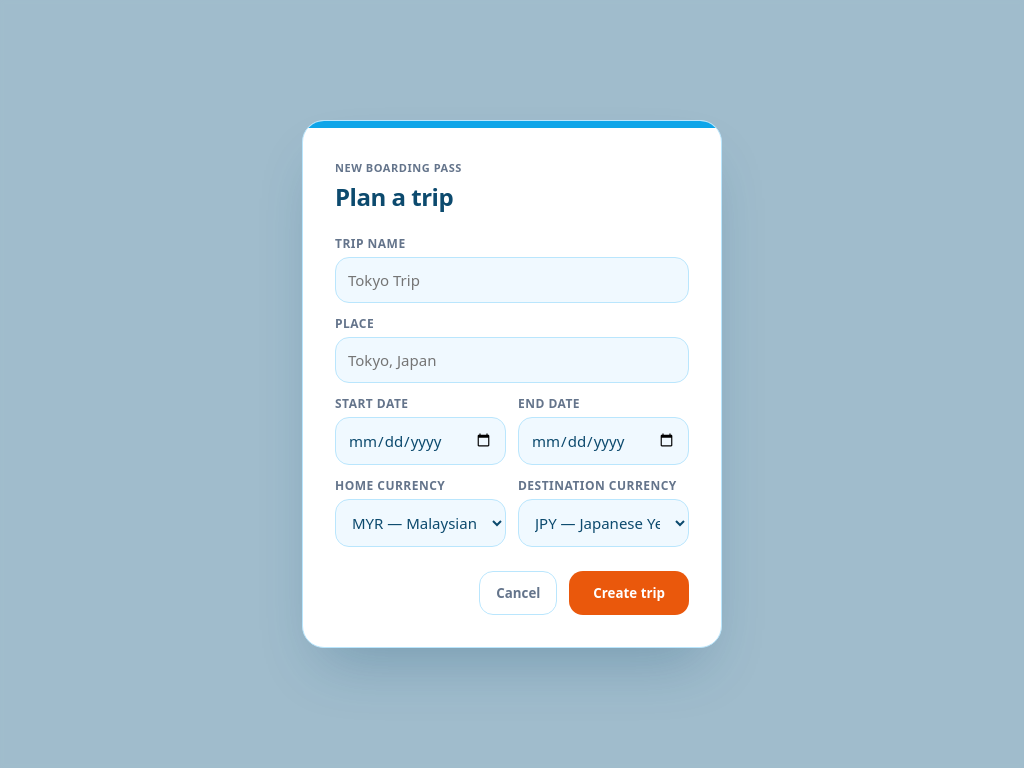
it: CreateTripModal › blocks submit when end is before start
This screenshot has width=1024, height=768.
Step 1. Type "Tokyo" into the field labelled "Trip name" → (512,280), box [335,256,689,302]
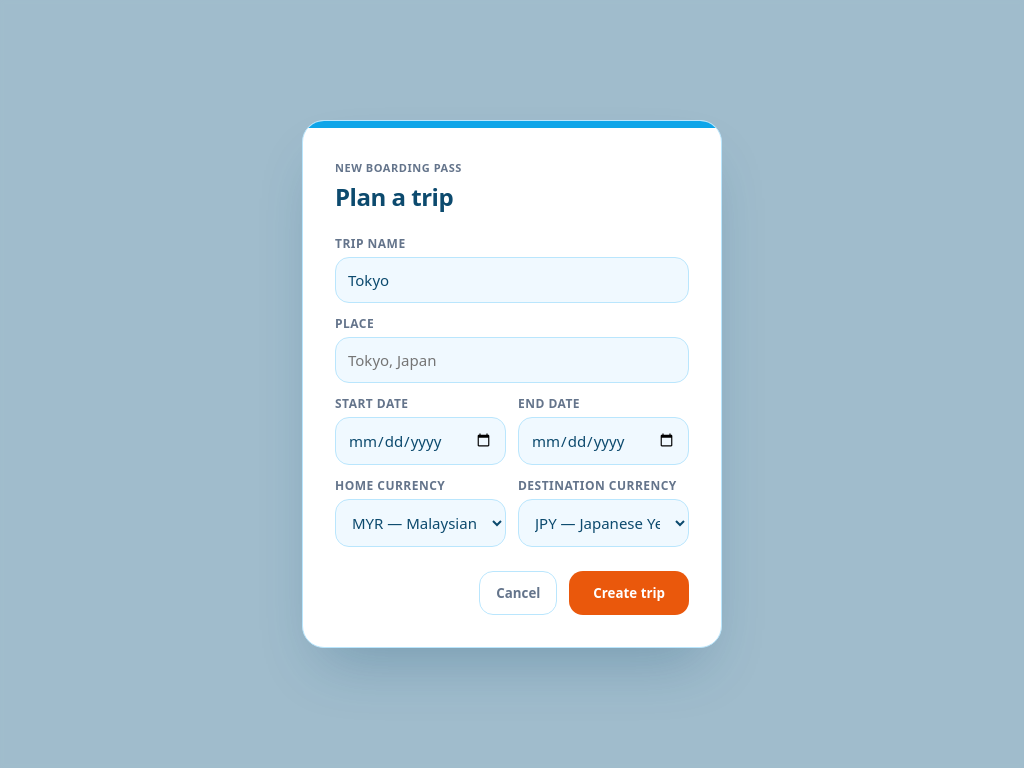
Step 2. Type "Tokyo" into the field labelled "Place" → (512,360), box [335,336,689,382]
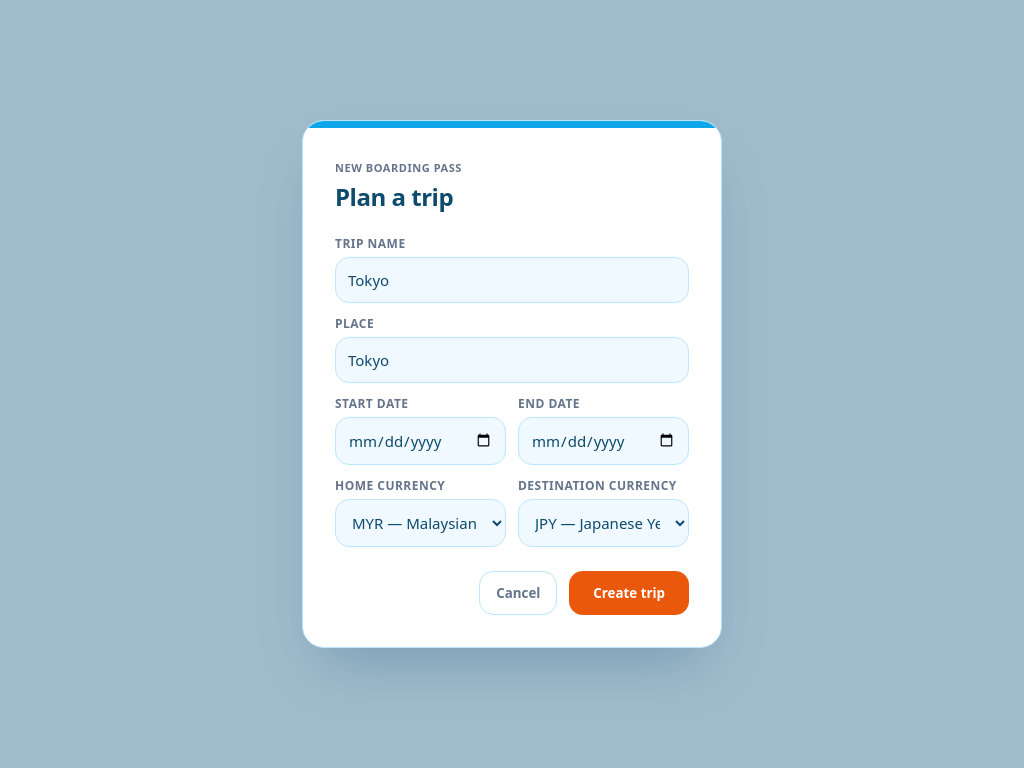
Step 3. Type "2026-07-19" into the date field labelled "Start date" → (420,440), box [335,416,506,464]
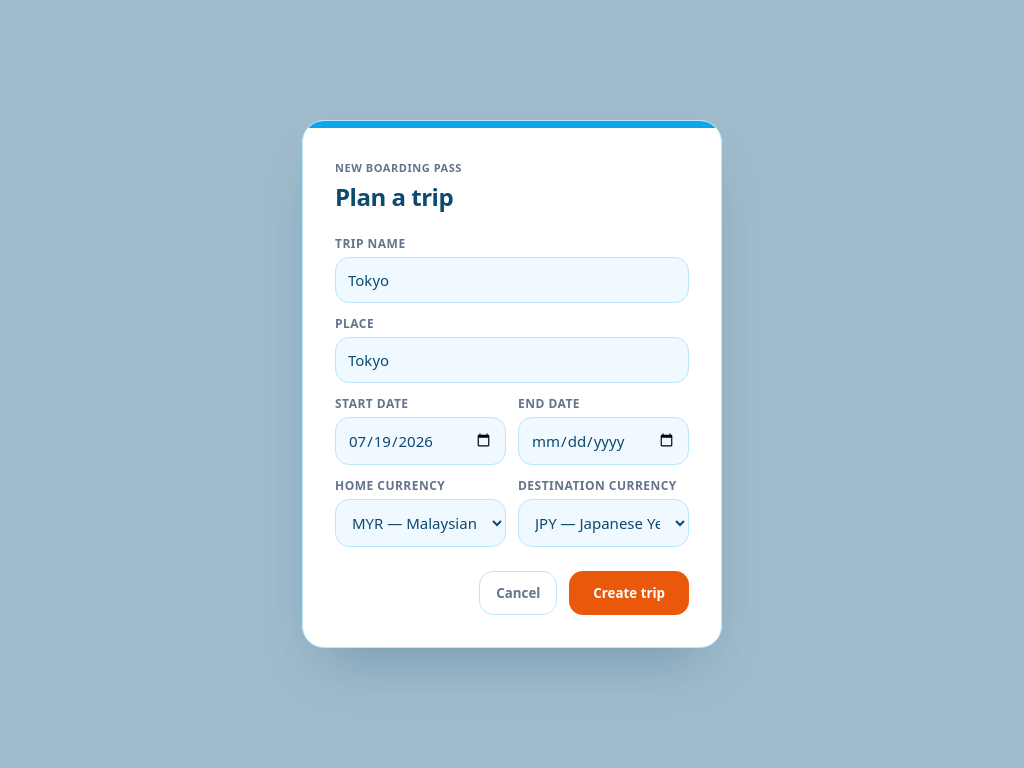
Step 4. Type "2026-07-12" into the date field labelled "End date" → (604,440), box [518,416,689,464]
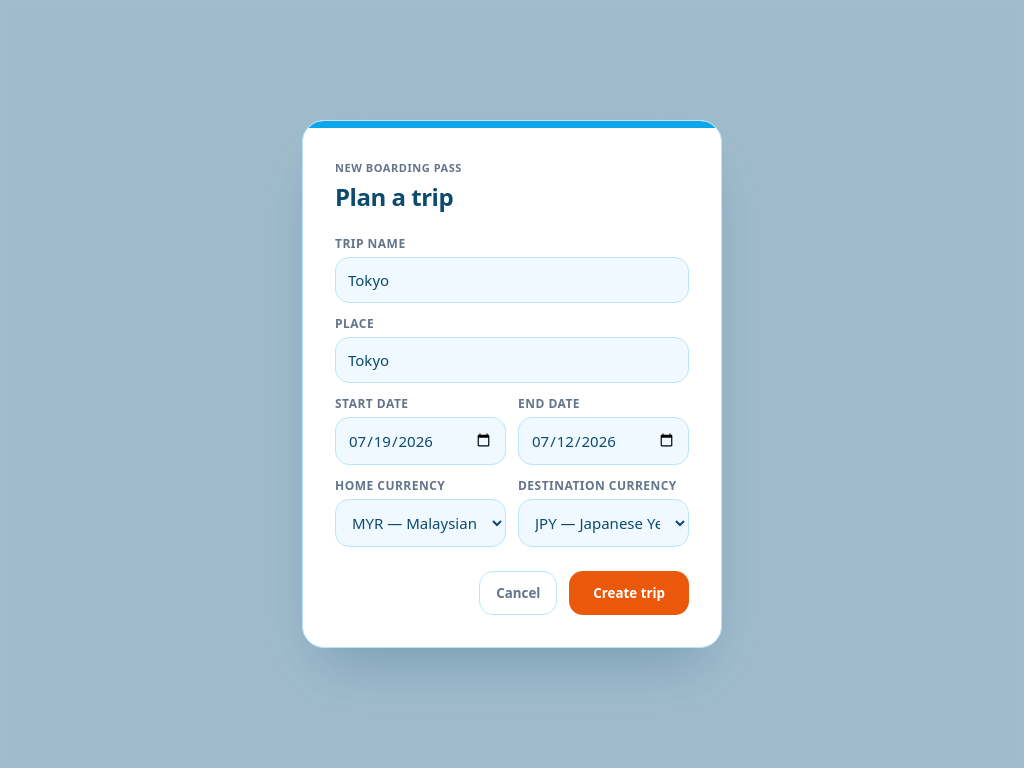
Step 5. Click the button "Create trip" → (629,592), box [569,570,689,614]
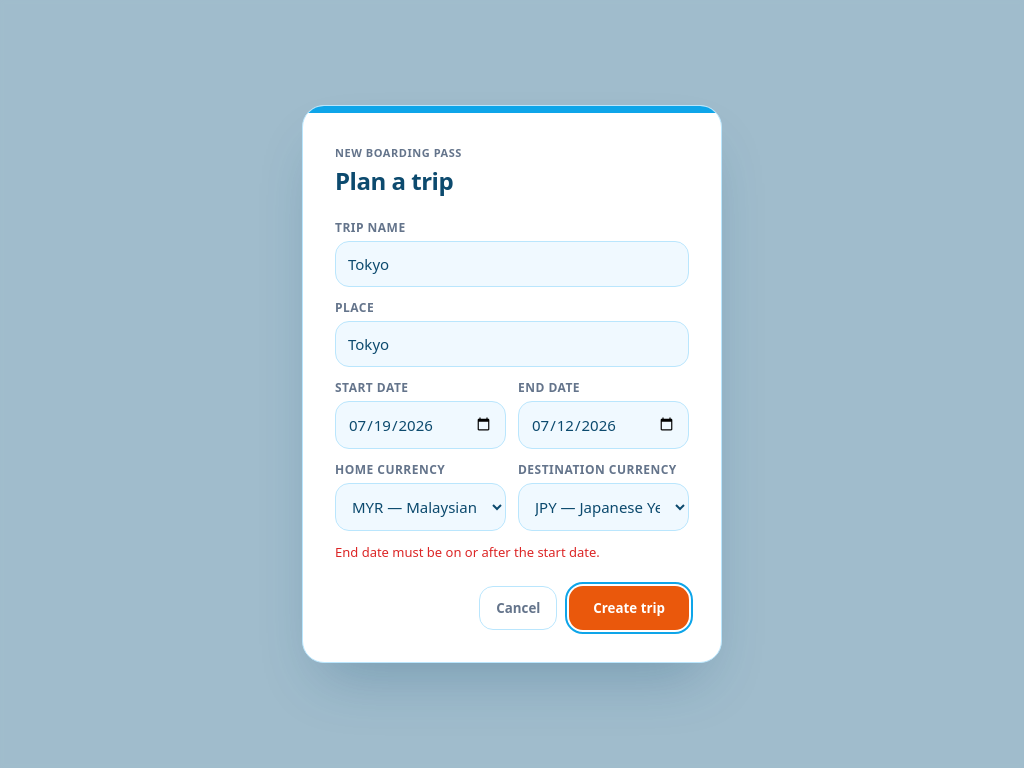
Now the text "End date must be on or after the start date." is shown, box [335,543,600,561]
